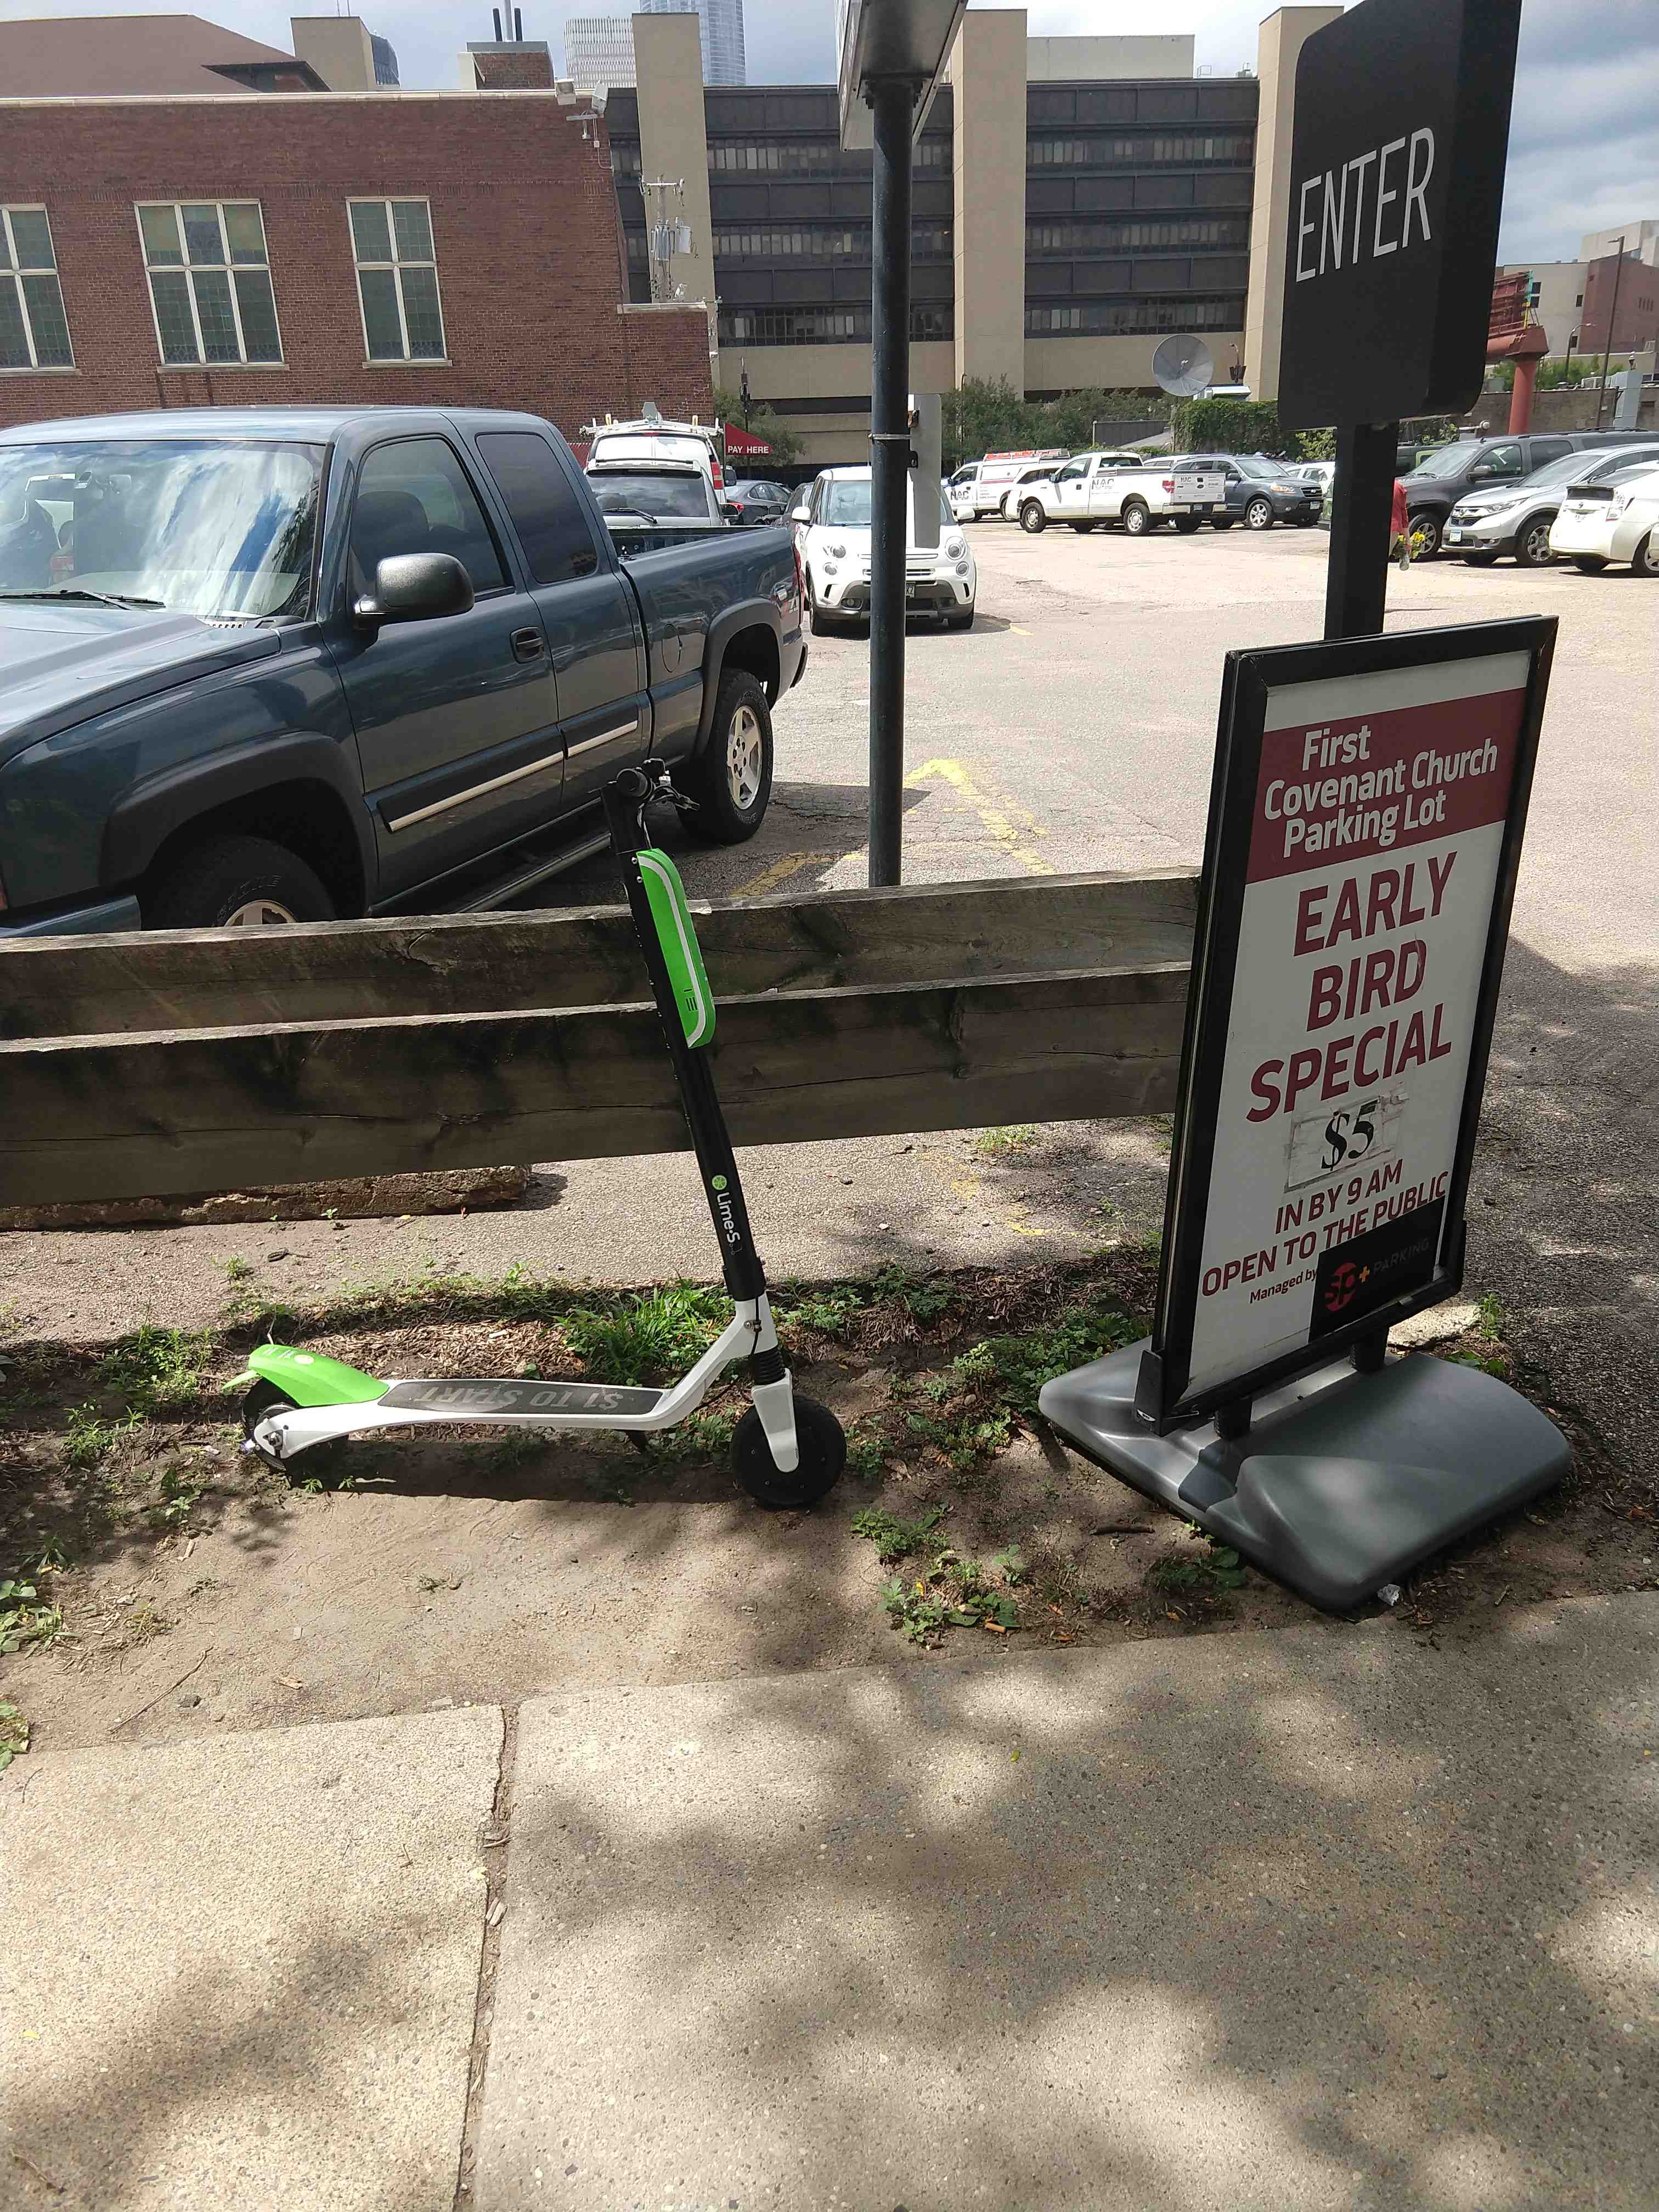scooter: (192, 646, 850, 1541)
